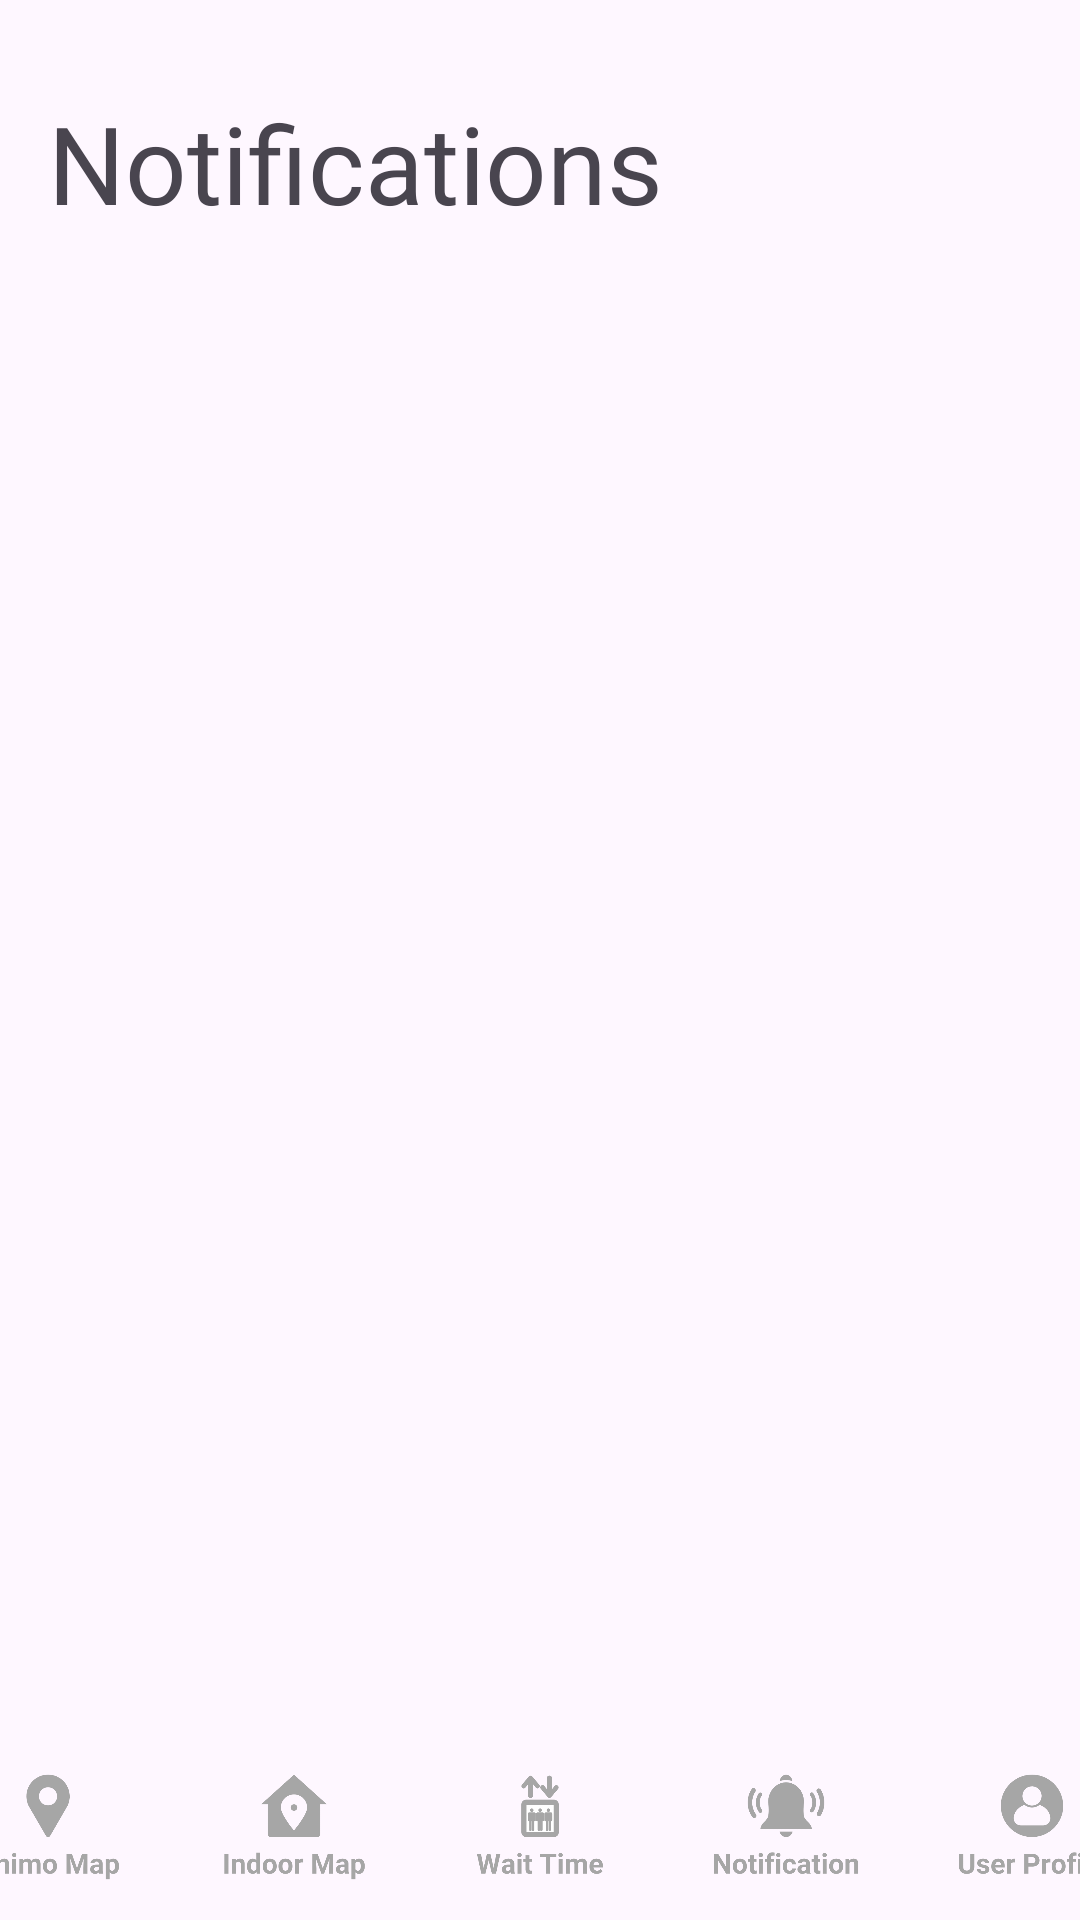

Point at icon controls on the screen. Image size 1080×1920, points as point (x, y).
Elevator Icon: point (540, 1824)
Indoor Navigation Icon: point (294, 1827)
